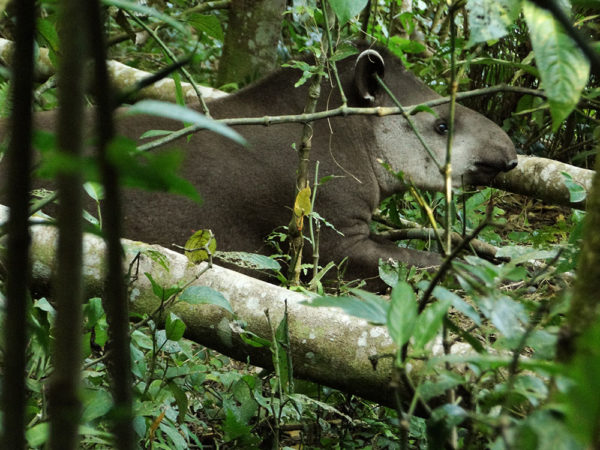Anta: (42, 46, 537, 283)
